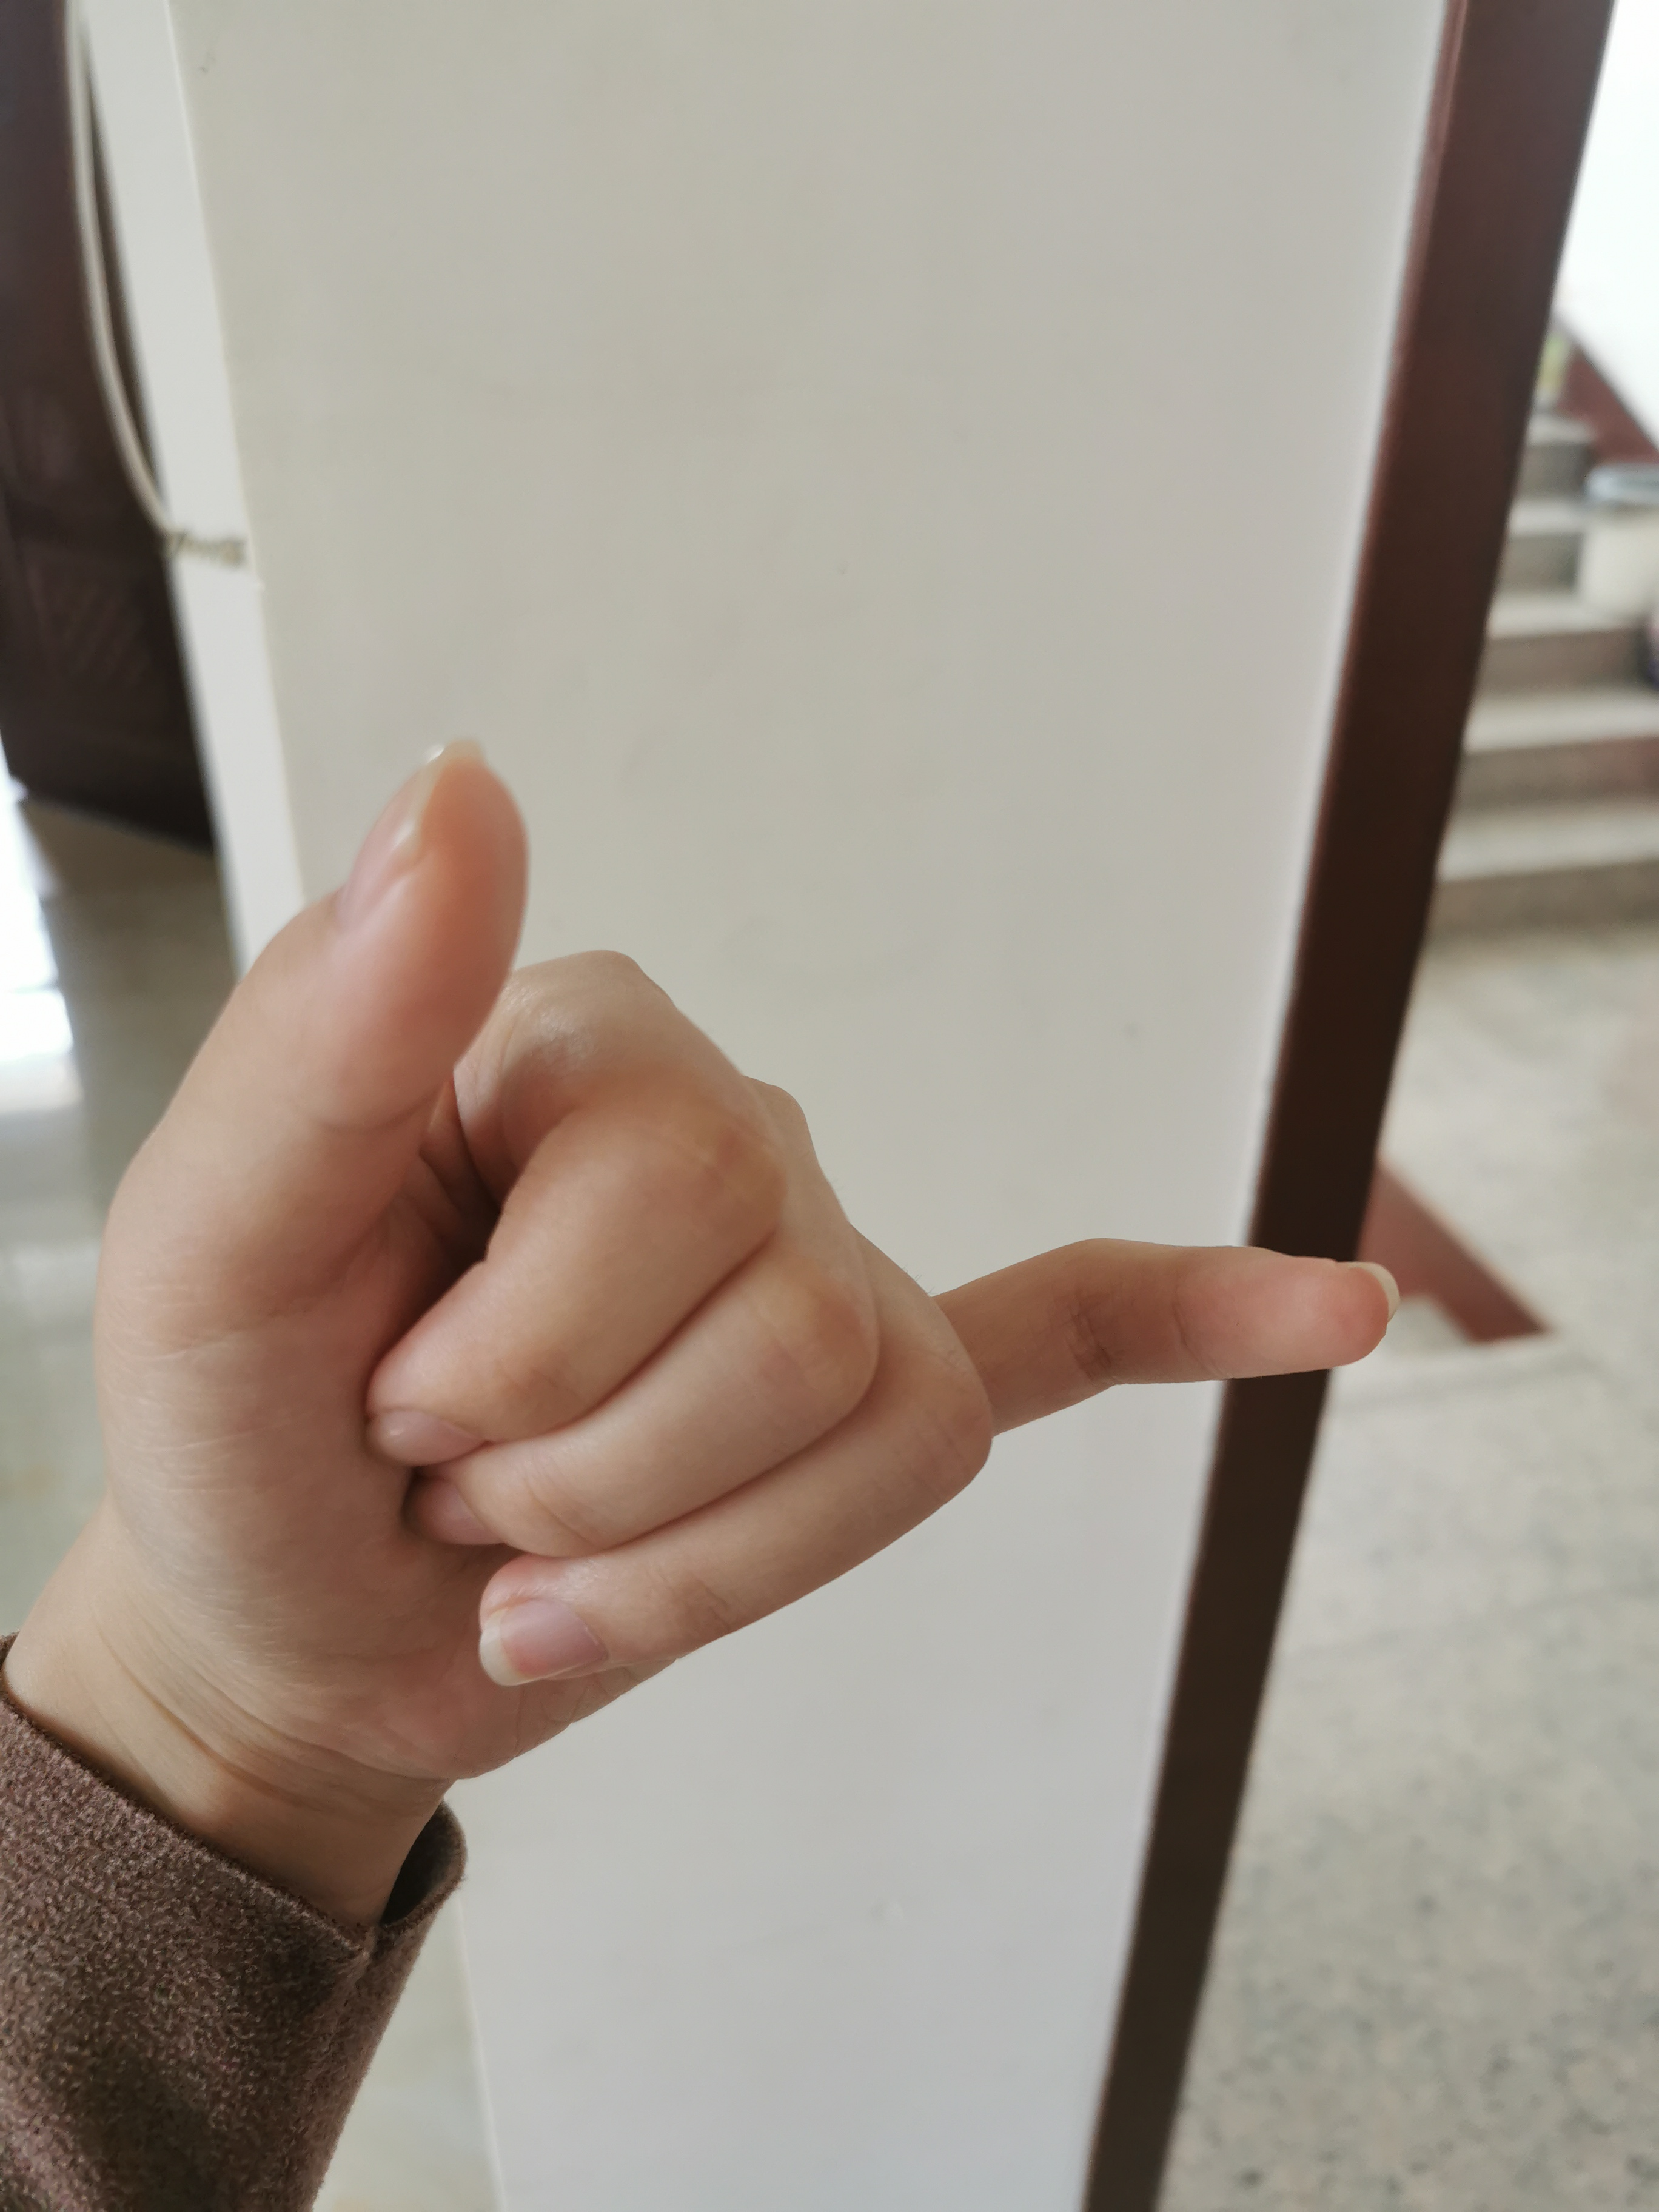clockwise: (71, 725, 1432, 1797)
